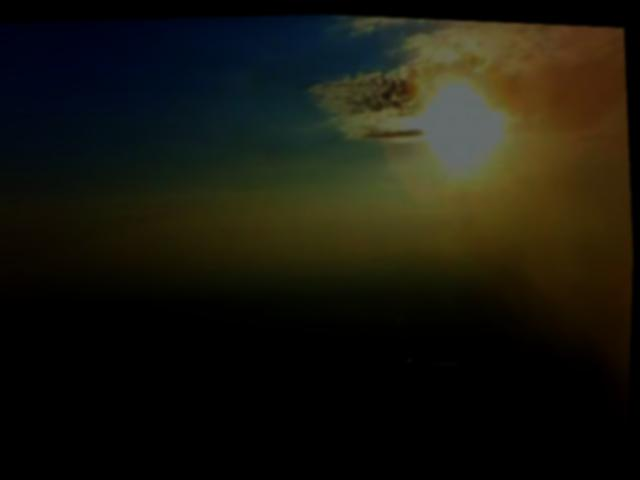iha: (352, 332, 465, 381)
